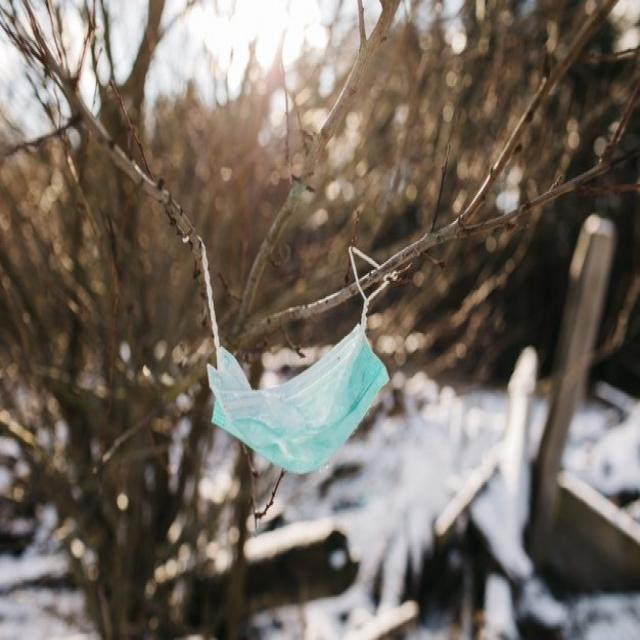non-organic waste: (198, 252, 394, 482)
